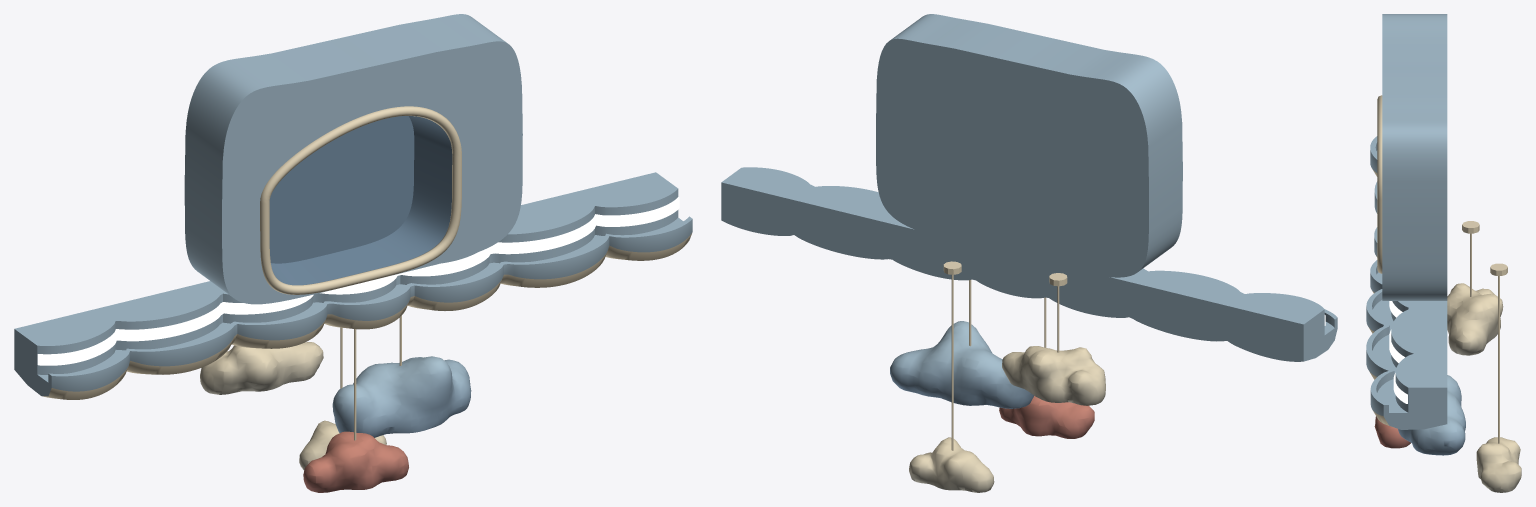
File: playroom-deep-room-kit.glb
3 renders of one model, left to right at view 1: azimuth 30°, elevation 25°; view 2: azimuth 150°, elevation 25°; view 3: azimuth 270°, elevation 25°, orthographic. The views are drawn at different scales.
Parts seen in each view (by area): view 1: SoftWallAlcove — Alcove wall block, Cloud cove body, SoftWallAlcove — Alcove recess, Cloud 2, CloudCeilingCove — Cove light strip, SoftWallAlcove — Alcove roll, Cloud 1, Cloud 3, Cloud 4; view 2: SoftWallAlcove — Alcove wall block, Cloud cove body, Cloud 2, Cloud 1, Cloud 4, Cloud 3; view 3: SoftWallAlcove — Alcove wall block, Cloud cove body, Cloud 1, Cloud 2, Cloud 4, SoftWallAlcove — Alcove roll, Cloud 3, CloudCeilingCove — Cove light strip, HangingCloudCluster — Hanging cord.003, HangingCloudCluster — Ceiling rose.003, HangingCloudCluster — Ceiling rose.
Boxes of the visible parts, box(x1,y1,x2,y2) form: SoftWallAlcove — Alcove wall block: box(184, 14, 522, 304); Cloud cove body: box(14, 172, 692, 399); SoftWallAlcove — Alcove recess: box(269, 116, 452, 285); Cloud 2: box(332, 356, 471, 437); CloudCeilingCove — Cove light strip: box(37, 197, 679, 365); SoftWallAlcove — Alcove roll: box(260, 106, 461, 294); Cloud 1: box(200, 342, 323, 394); Cloud 3: box(303, 431, 408, 492); Cloud 4: box(299, 420, 386, 470); SoftWallAlcove — Alcove wall block: box(876, 14, 1182, 277); Cloud cove body: box(721, 167, 1337, 361); Cloud 2: box(890, 321, 1033, 408); Cloud 1: box(1002, 346, 1105, 405); Cloud 4: box(909, 437, 994, 492); Cloud 3: box(999, 396, 1094, 438); SoftWallAlcove — Alcove wall block: box(1382, 14, 1447, 300); Cloud cove body: box(1366, 136, 1447, 429); Cloud 1: box(1447, 283, 1503, 355); Cloud 2: box(1398, 375, 1465, 455); Cloud 4: box(1476, 437, 1521, 492); SoftWallAlcove — Alcove roll: box(1377, 95, 1382, 273); Cloud 3: box(1374, 416, 1410, 448); CloudCeilingCove — Cove light strip: box(1389, 301, 1407, 403); HangingCloudCluster — Hanging cord.003: box(1498, 276, 1499, 443); HangingCloudCluster — Ceiling rose.003: box(1490, 263, 1507, 275); HangingCloudCluster — Ceiling rose: box(1462, 221, 1479, 233).
Bounding box in the file's own units: 16 × 10.86 × 3.87.
